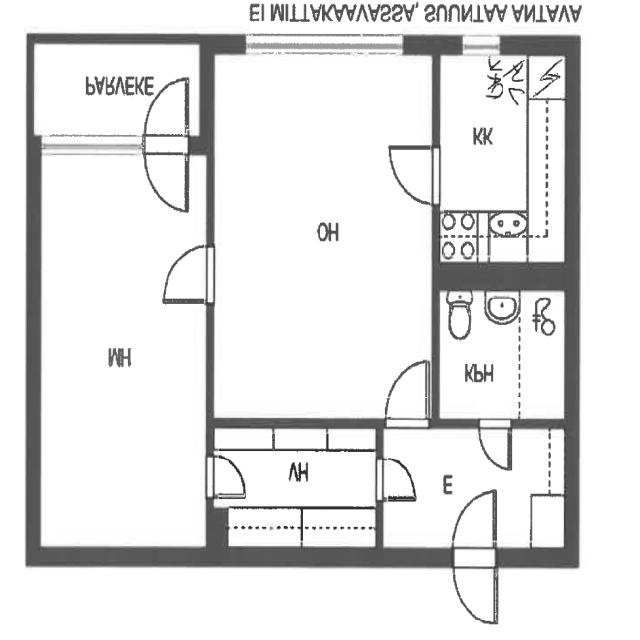door: (447, 483, 503, 628), (140, 74, 195, 216), (154, 234, 220, 309), (378, 350, 434, 433), (385, 138, 445, 208), (472, 409, 515, 479), (205, 449, 249, 504), (374, 453, 419, 506)
window: (434, 274, 572, 426), (244, 32, 413, 56), (40, 128, 145, 156), (452, 27, 511, 60)
zone: (210, 47, 438, 431), (36, 144, 214, 553), (433, 43, 572, 270), (211, 426, 381, 556), (431, 278, 571, 427)
